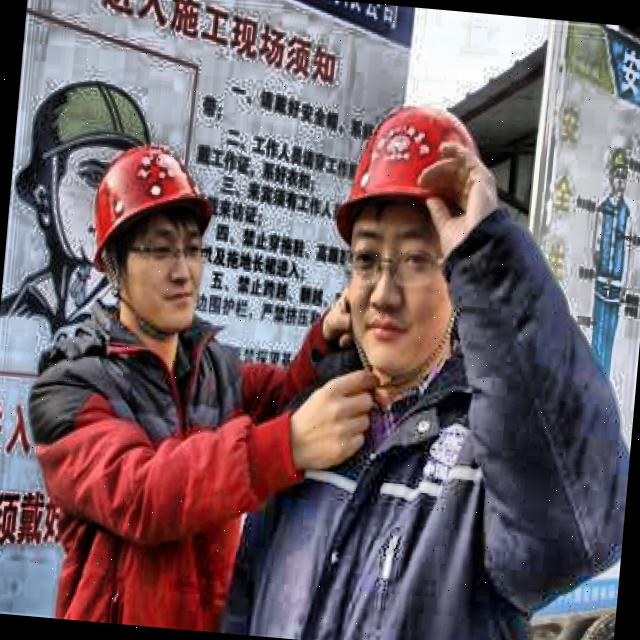helmet: (304, 71, 504, 391), (65, 119, 234, 355)
